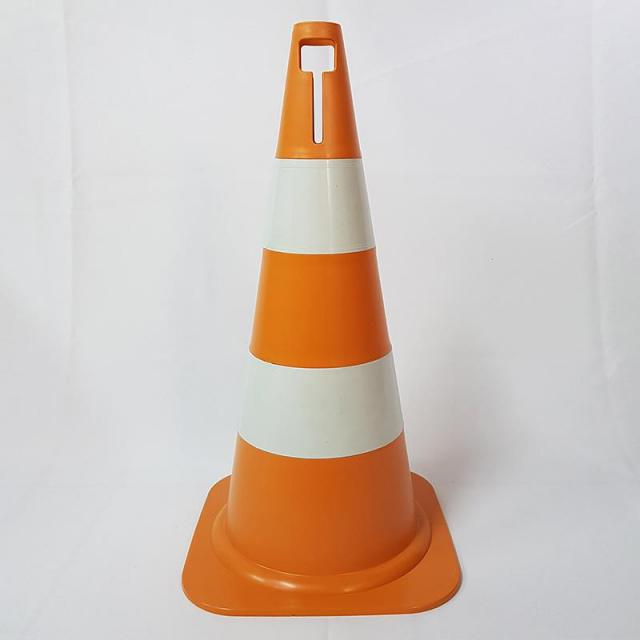cone: (196, 18, 463, 607)
